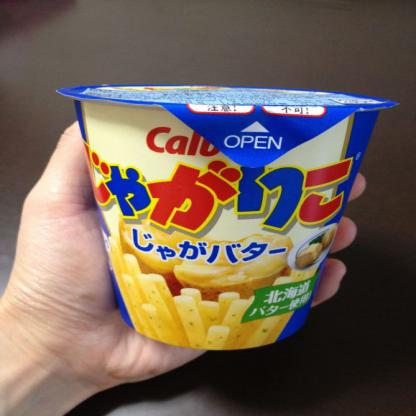potatochip: (51, 76, 404, 352)
